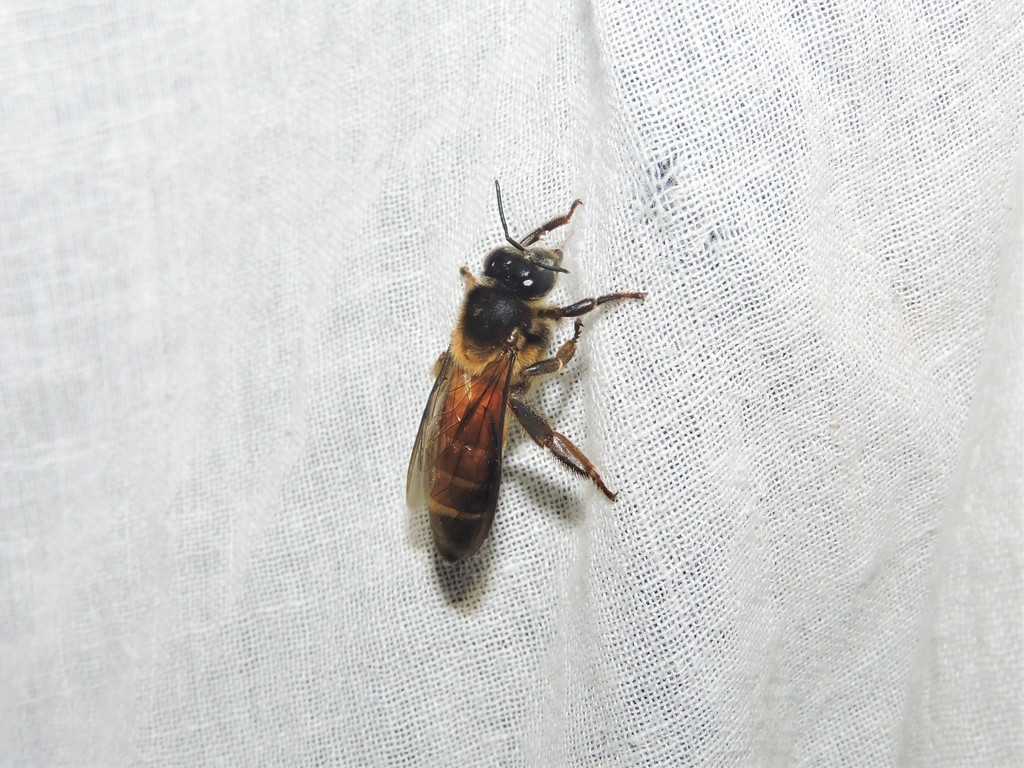honeybee: (406, 178, 645, 569)
